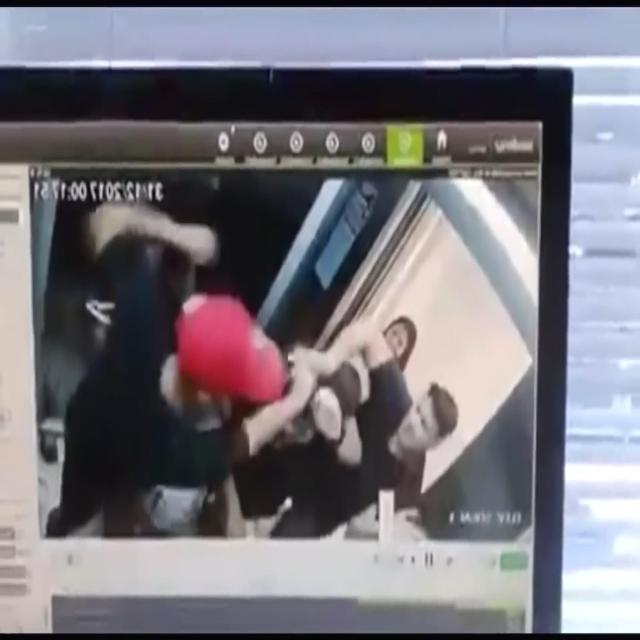fight: (60, 202, 363, 536)
